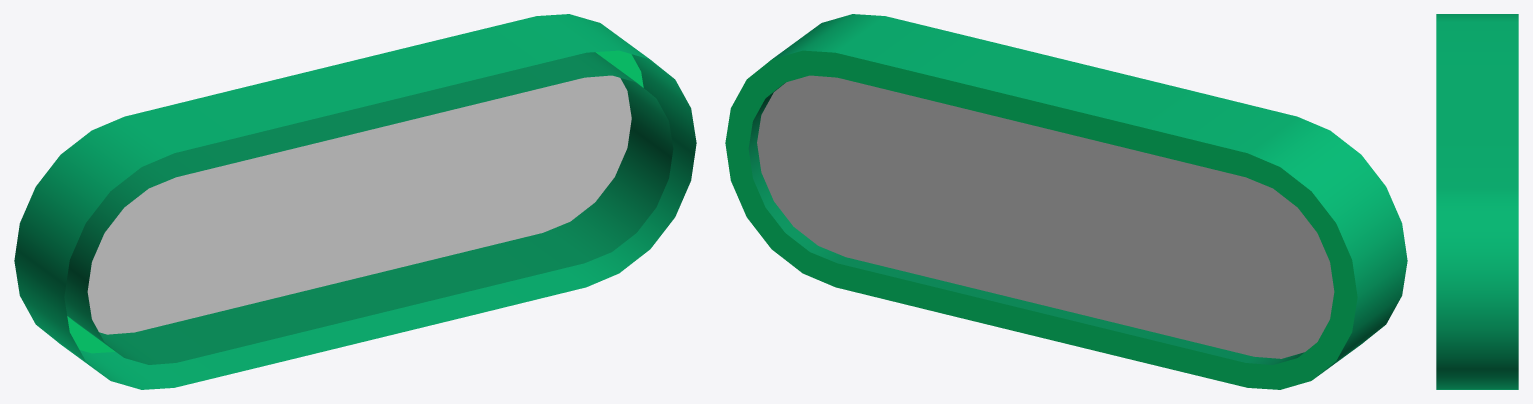
The model's file is khay6.fbx.
3 renders of one model, left to right at view 1: azimuth 30°, elevation 25°; view 2: azimuth 150°, elevation 25°; view 3: azimuth 270°, elevation 25°, orthographic. The views are drawn at different scales.
Parts seen in each view (by area): view 1: khay6; view 2: khay6; view 3: khay6.
Part boxes in pixels (x1,y1,x2,y2): khay6: (14,14,696,389); khay6: (725,14,1407,389); khay6: (1436,14,1518,389).
Size of the model in its own units: 498 by 177 by 68.19.
